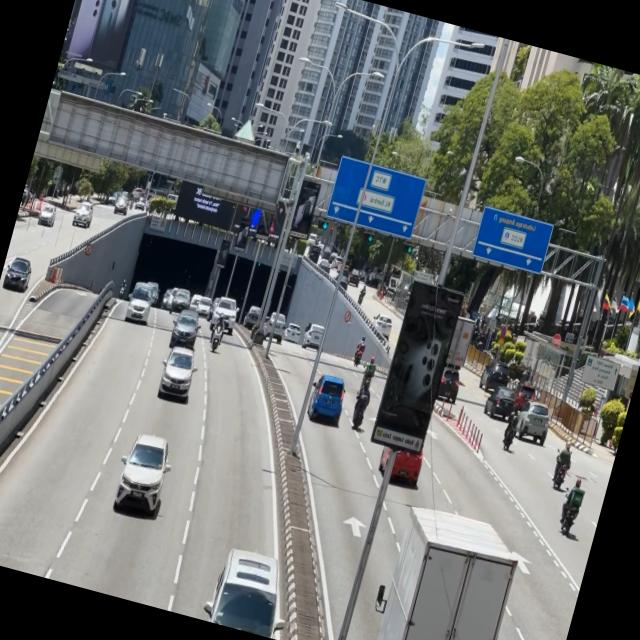Vehicle: (358, 495, 524, 640), (201, 539, 296, 639), (108, 426, 174, 522), (153, 342, 199, 406), (303, 370, 349, 426), (512, 398, 554, 452), (0, 249, 37, 300), (480, 382, 520, 426), (166, 304, 203, 350), (121, 280, 156, 326), (208, 292, 242, 336), (296, 317, 328, 358)
